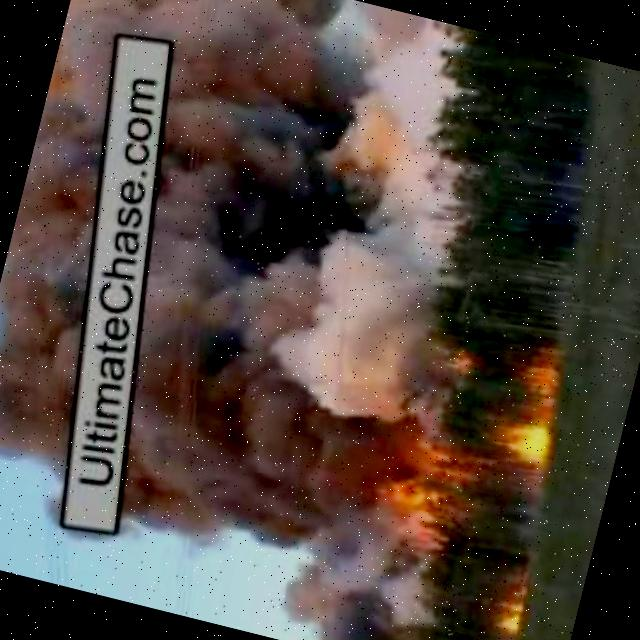fire: (367, 453, 453, 534), (486, 405, 559, 470), (512, 344, 570, 399), (496, 594, 528, 638)
